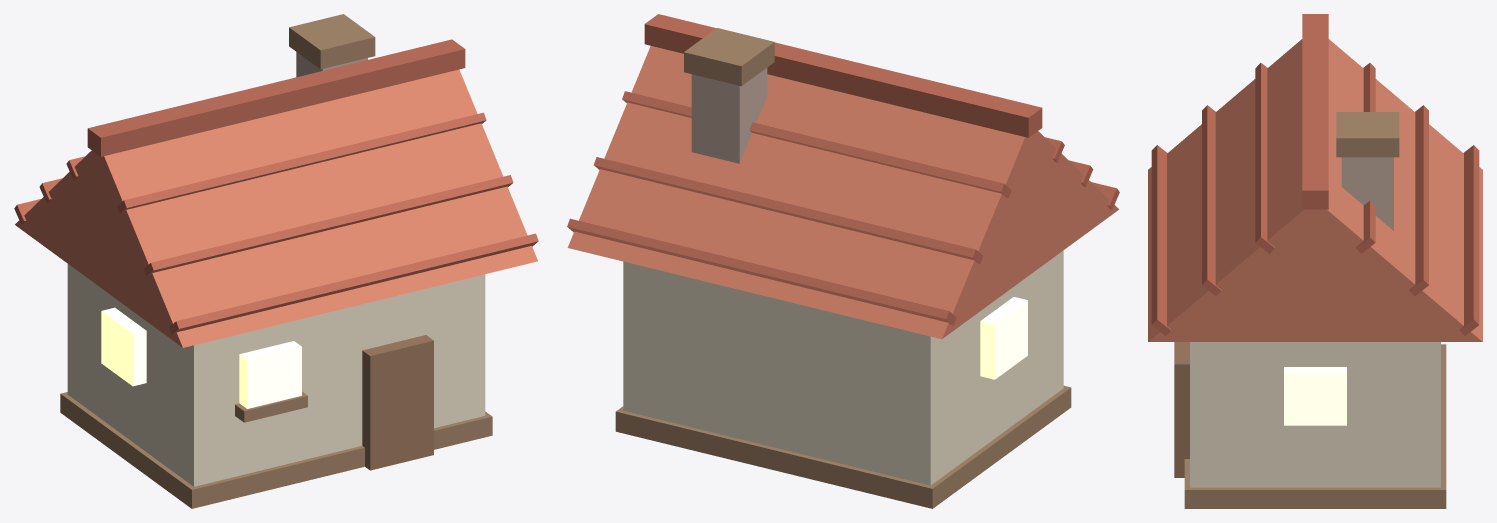
The model's file is house.glb.
3 views of the same model, side by side, from view 1: azimuth 30°, elevation 25°; view 2: azimuth 150°, elevation 25°; view 3: azimuth 270°, elevation 25° (orthographic). The views are drawn at different scales.
Visible parts, largest first — view 1: house; view 2: house; view 3: house.
Part boxes in pixels (<box>): house: <box>14,14,538,508</box>; house: <box>567,14,1119,508</box>; house: <box>1148,14,1482,508</box>.
Size of the model in its own units: 0.4 by 0.37 by 0.32.
